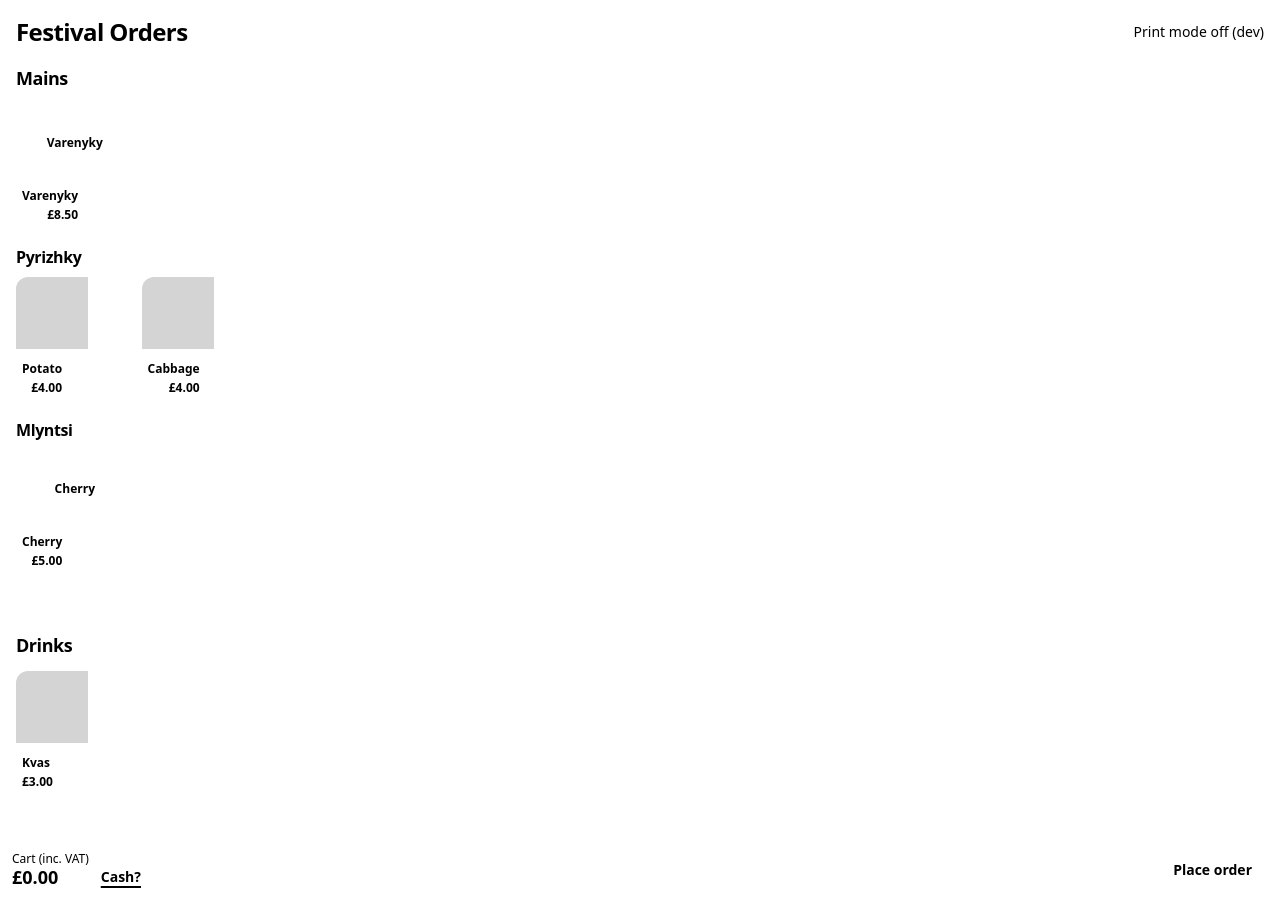
Test: FestivalTillPage › adds to cart with addition and updates total
Click the button with aria-label "Order Varenyky". click: click(75, 166)
box: [16,104,134,229]
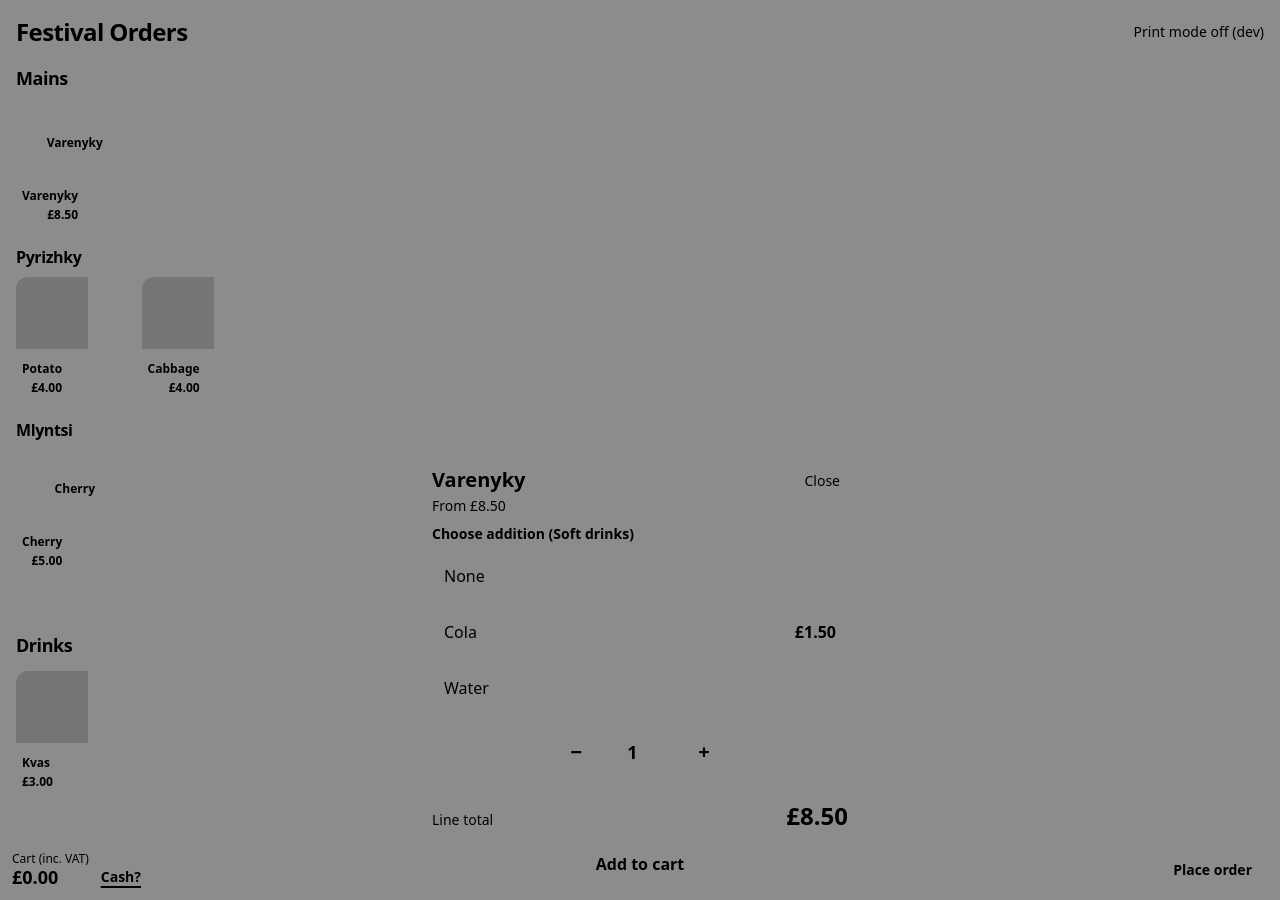
Check: the dialog is shown
Click the button "Cola £1.50". click: click(460, 632)
box: [432,608,848,656]
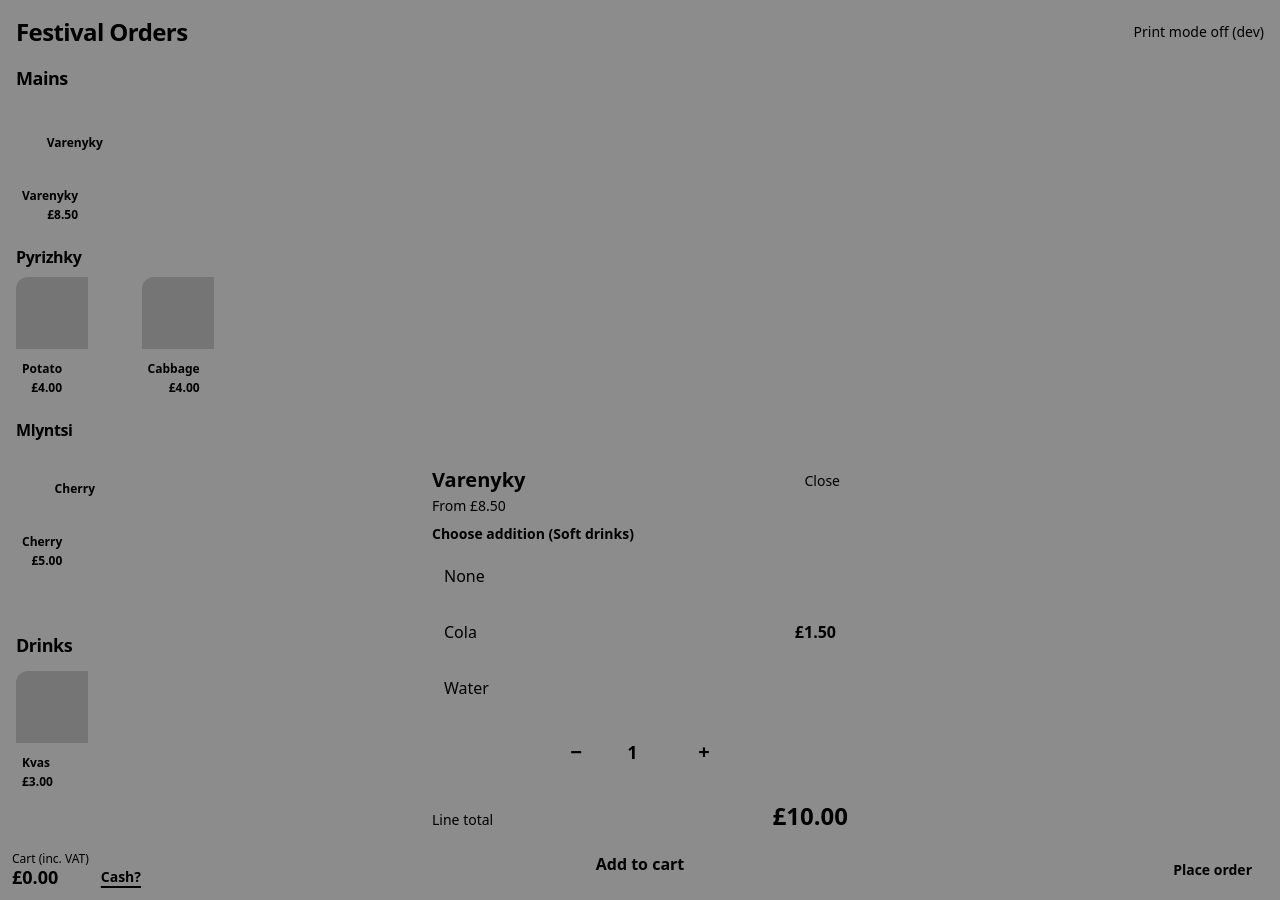
Replace the text in the number field named "Quantity for Varenyky" with "2". click: (640, 752)
box: [608,728,672,776]
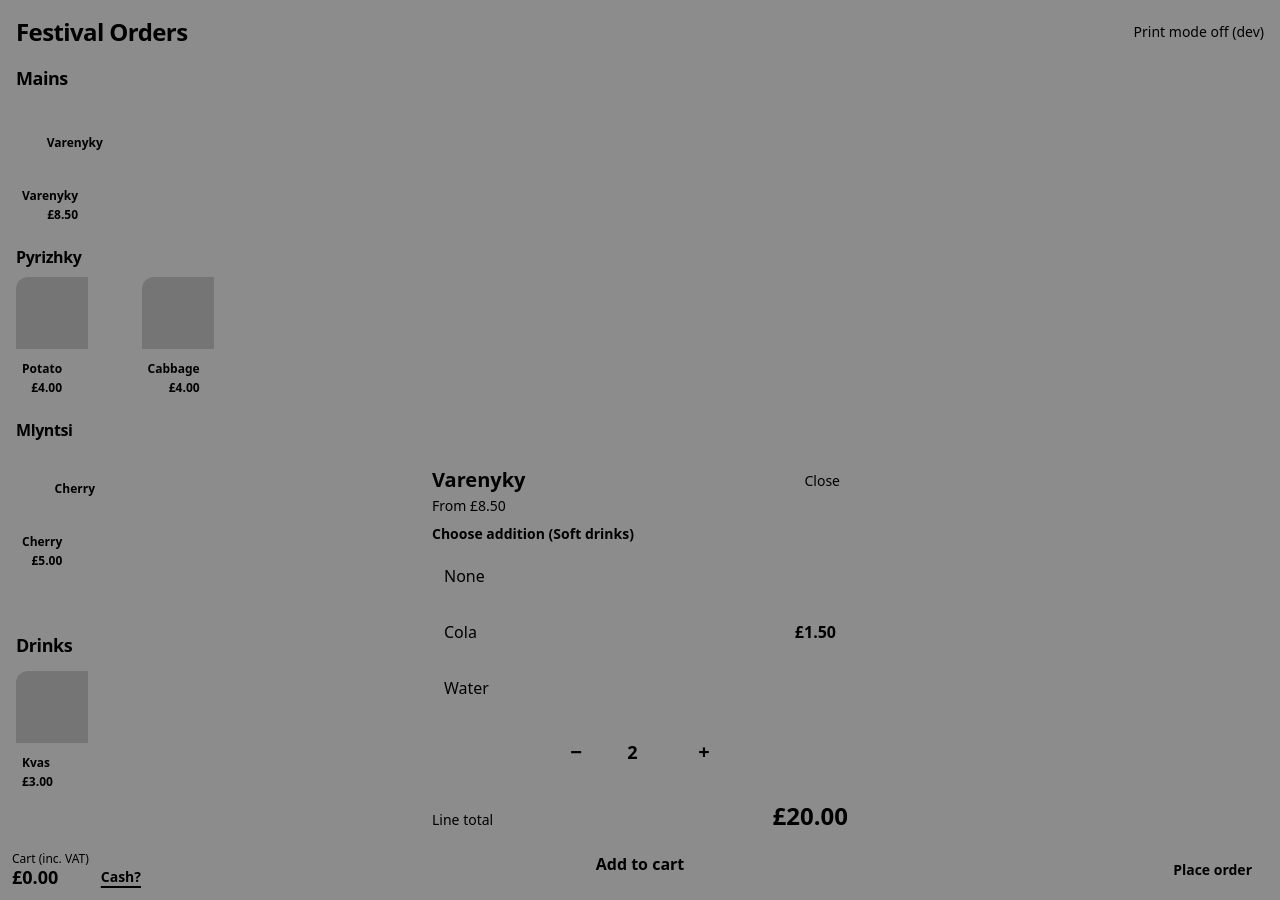
Click the button "Add to cart". click: click(640, 864)
box: [432,840,848,888]
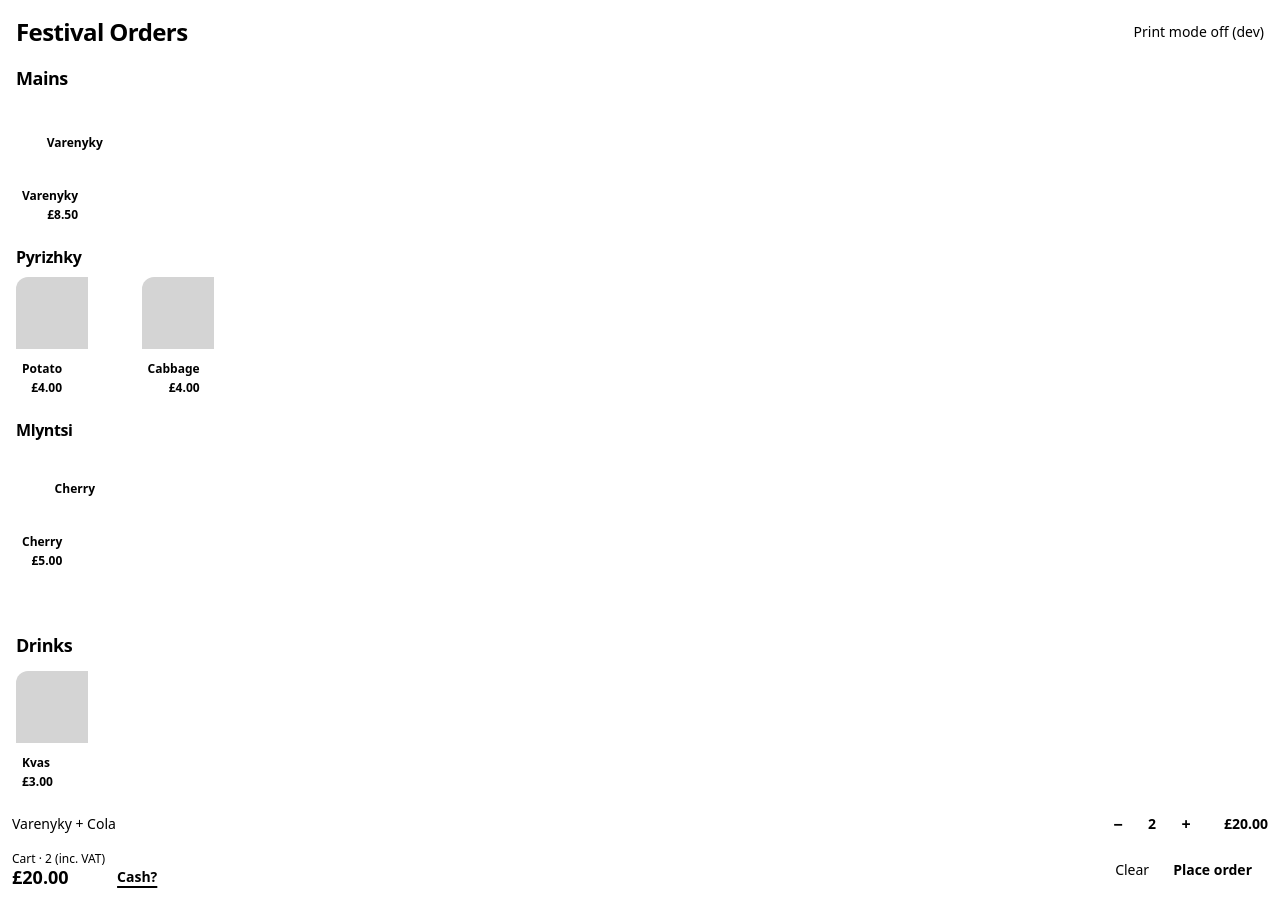
Check: the dialog is gone
Check: the list named "Festival cart" shows "Varenyky + Cola", box [12,814,116,833]
Check: the text named "Quantity for Varenyky + Cola" reads "2", box [1148,814,1156,833]
